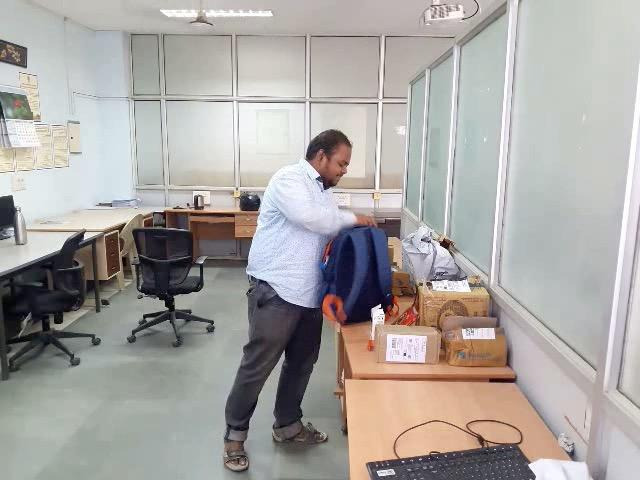shoplifting: (237, 194, 403, 349)
